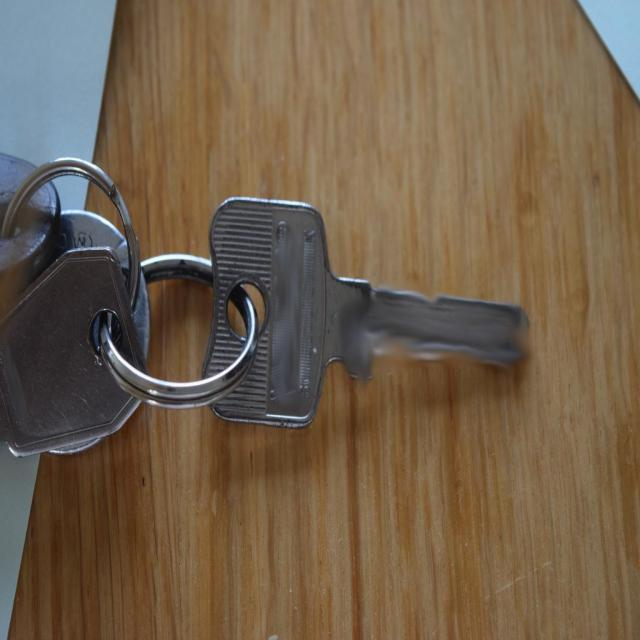Frontdoor keys: (196, 192, 534, 432)
